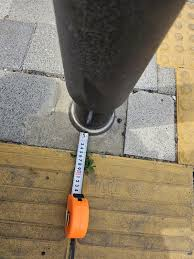guide_blocks: (3, 147, 193, 259), (158, 5, 194, 162)
